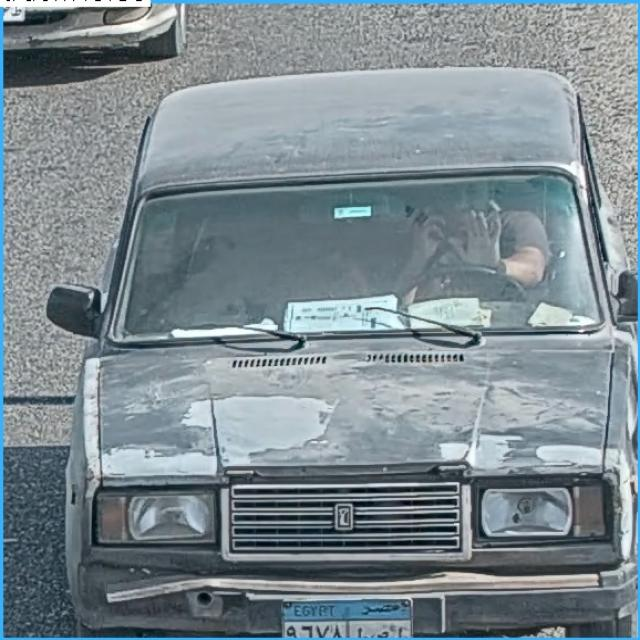windshield: (105, 167, 611, 327)
